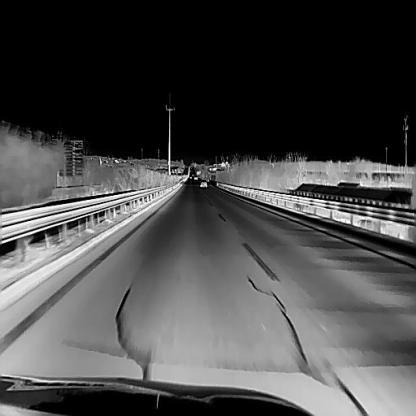car: (199, 177, 207, 186)
